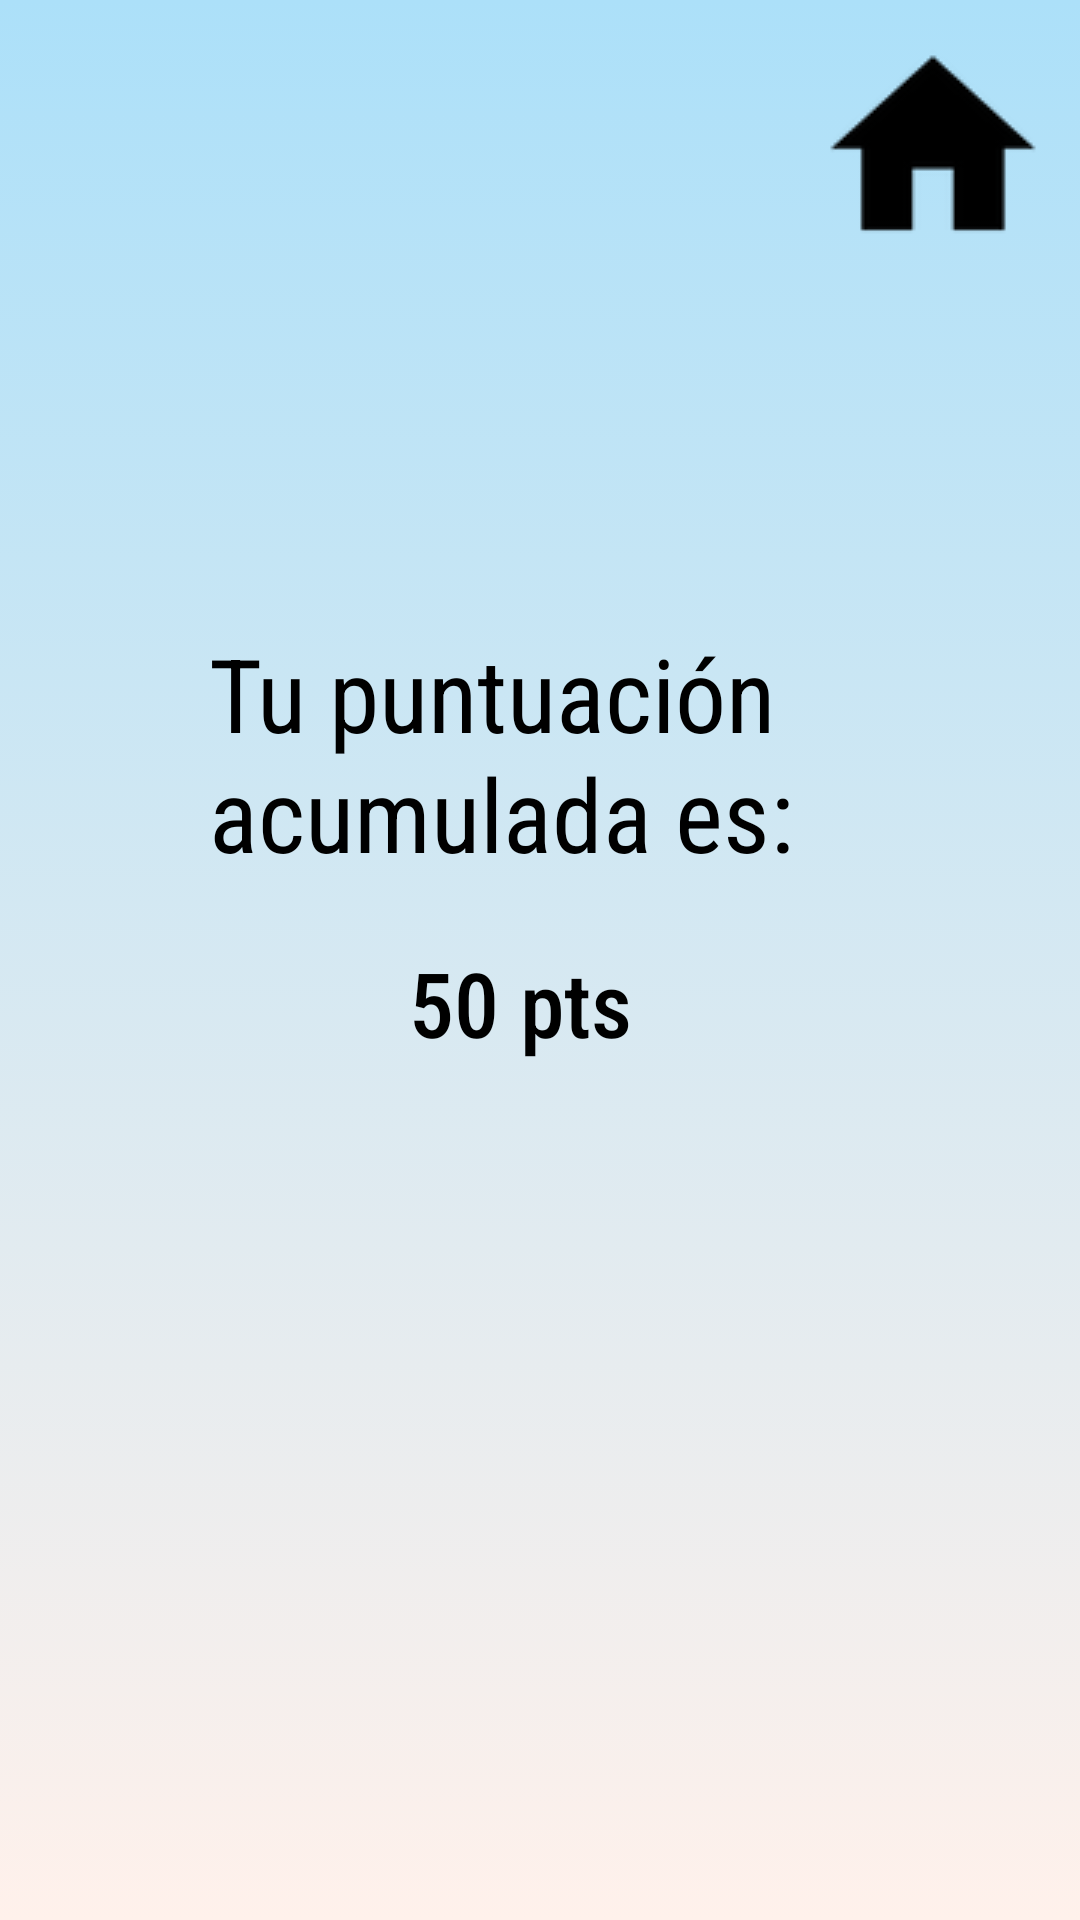

Where icons sit on this 1080w x 1920h app screen, as (x1, y1, x2, y2):
home: (830, 55, 1036, 231)
